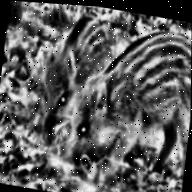boar: (64, 31, 192, 192), (25, 2, 86, 132)
